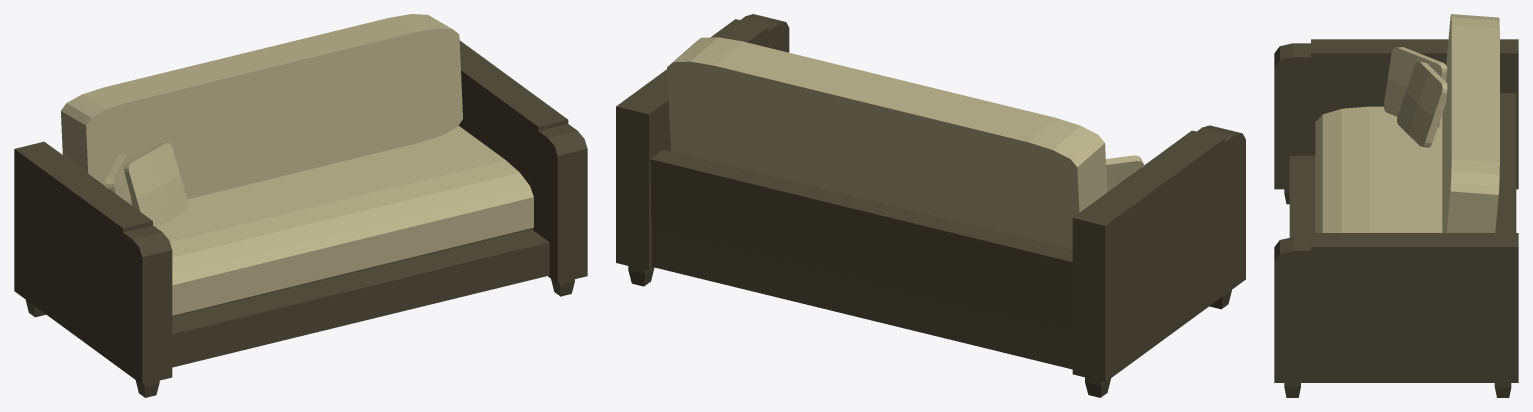
File: Sofa.fbx
3 renders of one model, left to right at view 1: azimuth 30°, elevation 25°; view 2: azimuth 150°, elevation 25°; view 3: azimuth 270°, elevation 25°, orthographic. The views are drawn at different scales.
Visible parts, largest first — view 1: SofaKantor; view 2: SofaKantor; view 3: SofaKantor.
Part boxes in pixels (box(x1,y1,x2,y2)): SofaKantor: box(14, 14, 587, 397); SofaKantor: box(616, 14, 1245, 397); SofaKantor: box(1274, 14, 1518, 397).
Size of the model in its own units: 287 by 133 by 142.
